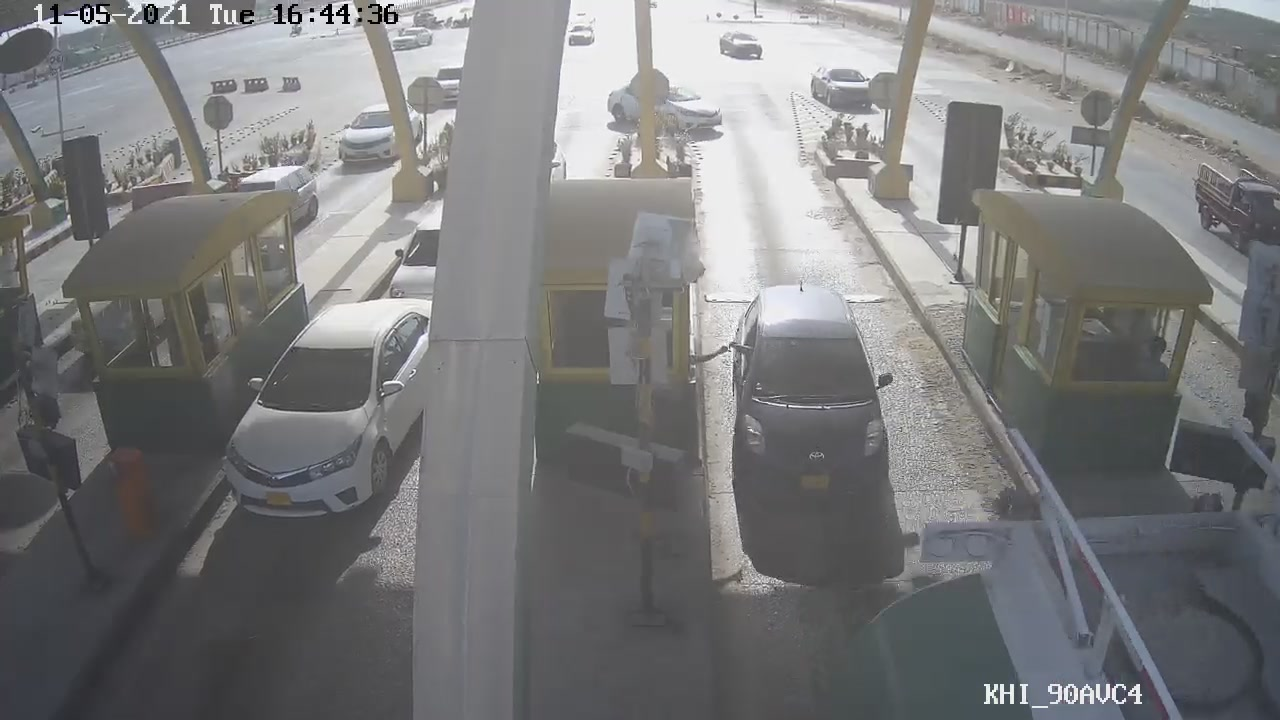F1: (723, 281, 902, 526)
